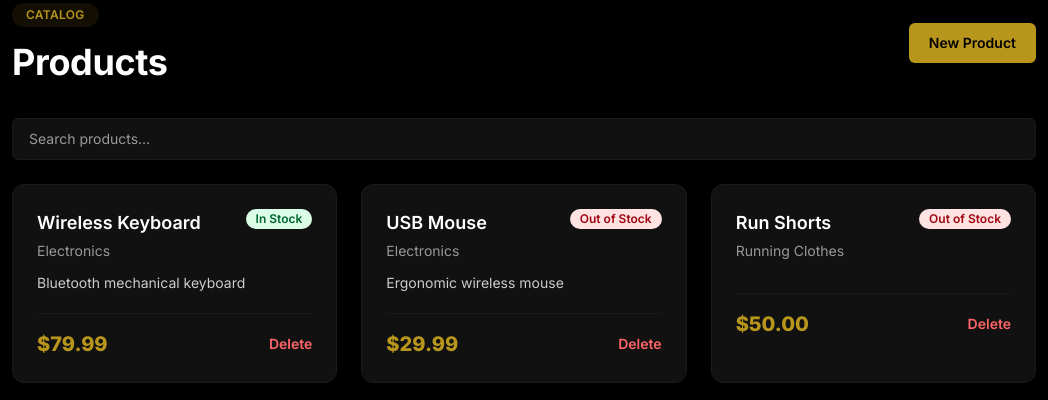
Test: ProductList › searches without crashing when a product has a null description
Expected: the link "Run Shorts" is shown, [736,212,831,233]
In the search field labelled "Search products…": (524,139) [12,118,1036,160], type "keyboard"
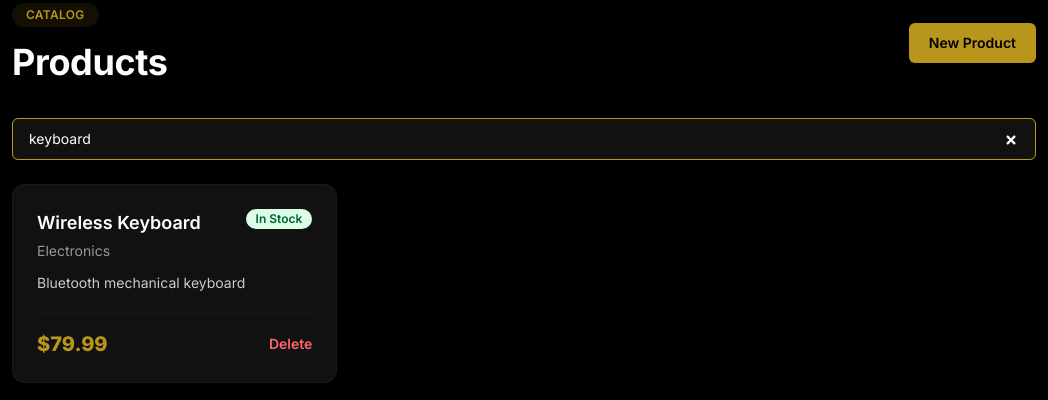
Expected: the link "Wireless Keyboard" is shown, [37,212,201,233]
Now the link "Run Shorts" is gone
Now the link "USB Mouse" is gone
